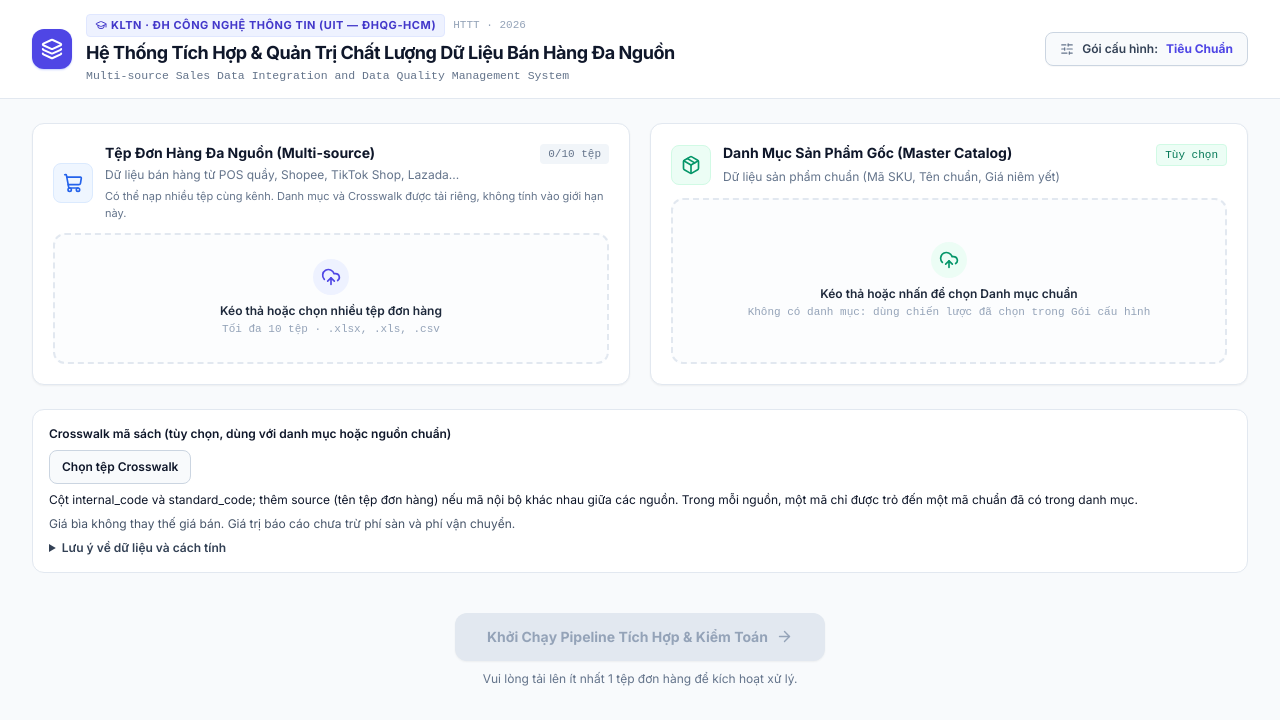
Test: Configuration UI interactions › shows presets only inside the dialog; Cancel discards the draft, Apply commits it
The image size is (1280, 720).
Click the button "Gói cấu hình: Tiêu Chuẩn".
click(1147, 49)  # box [1045,32,1248,66]
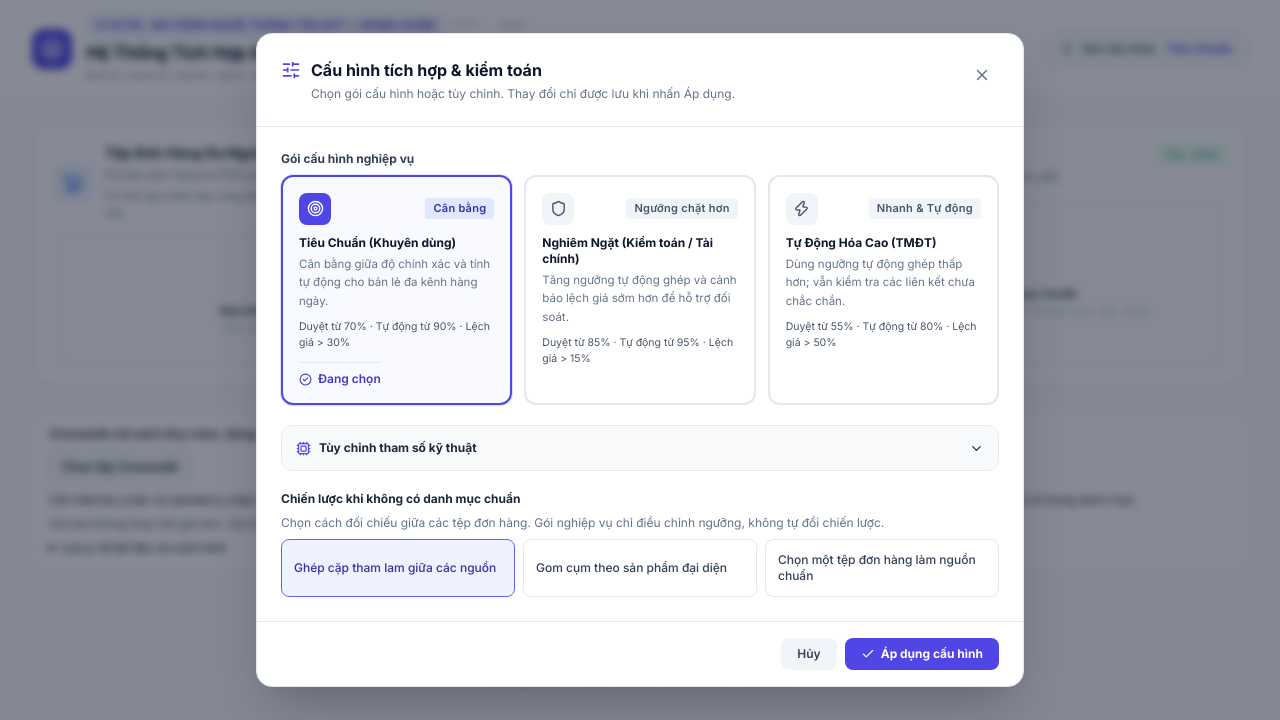
expect the button with aria-label "Nghiêm Ngặt (Kiểm toán / Tài chính)" is shown: met
Click the button with aria-label "Nghiêm Ngặt (Kiểm toán / Tài chính)".
click(640, 290)  # box [524,175,756,405]
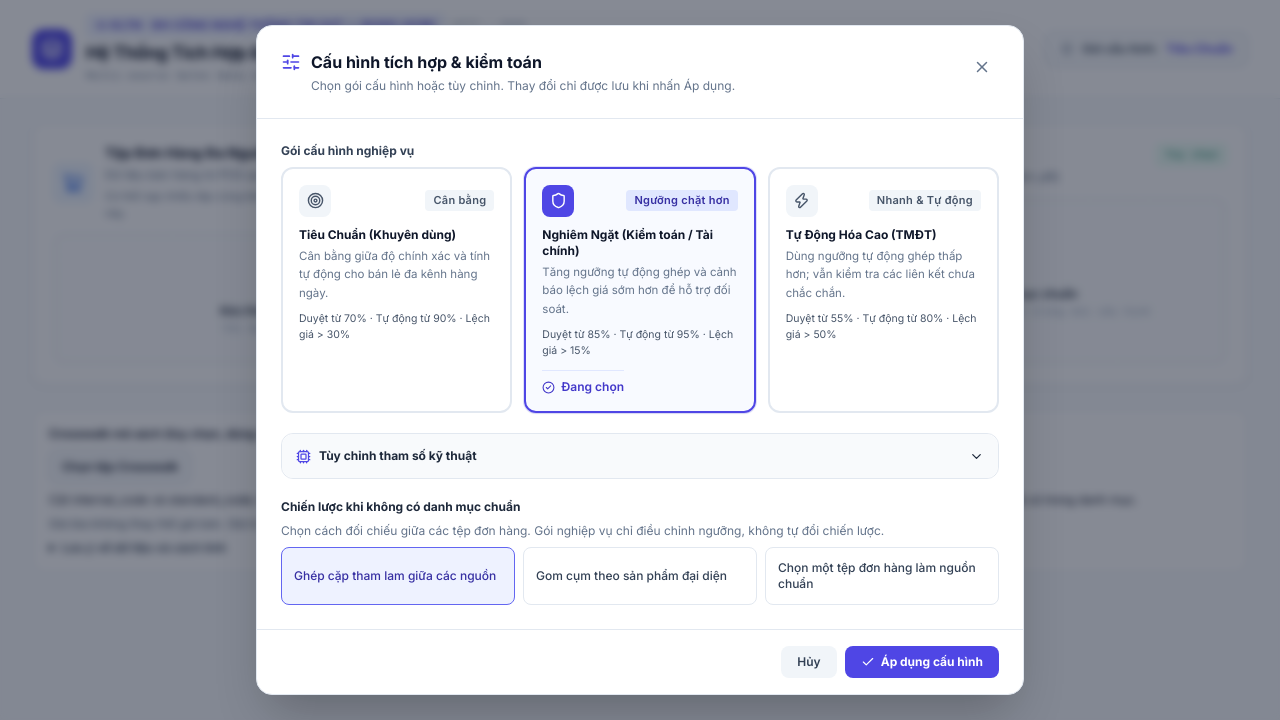
expect the button "Gói cấu hình: Tiêu Chuẩn" is shown: met, box [1045,32,1248,66]
expect the button "Hủy" is shown: met
Click the button "Hủy".
click(809, 662)  # box [781,646,837,678]
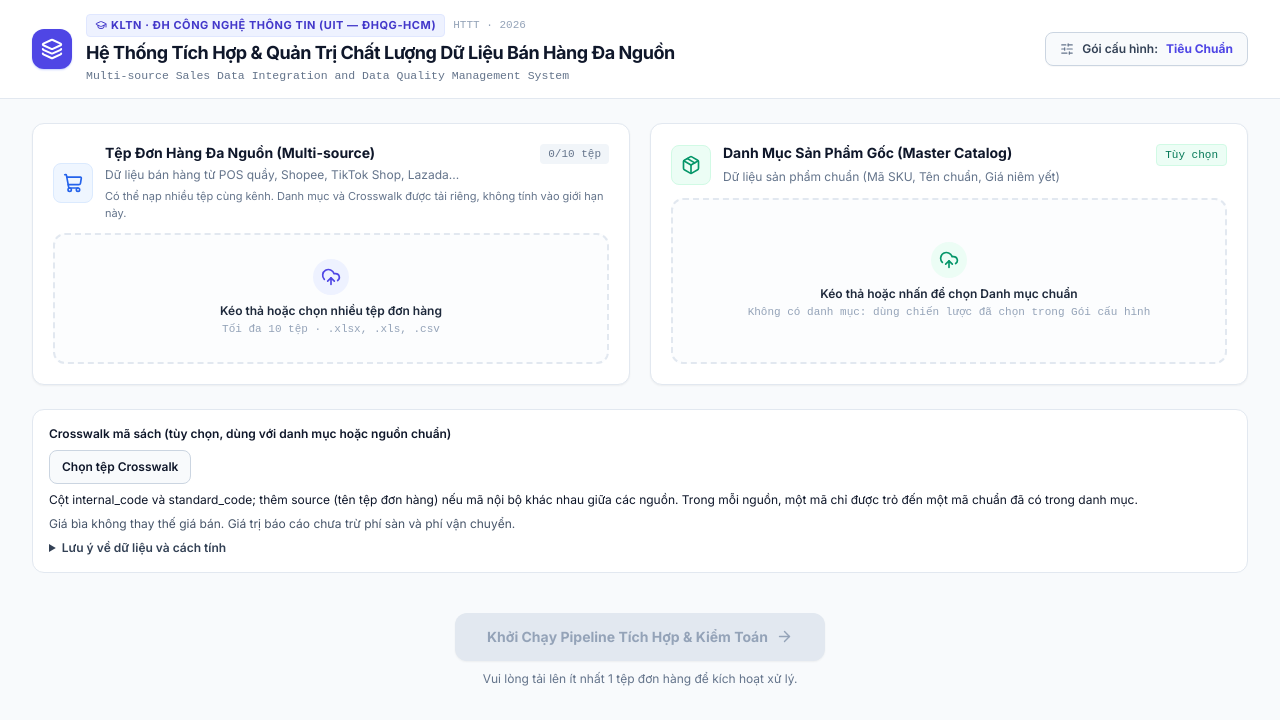
expect the dialog is gone: met
Click the button "Gói cấu hình: Tiêu Chuẩn".
click(1147, 49)  # box [1045,32,1248,66]
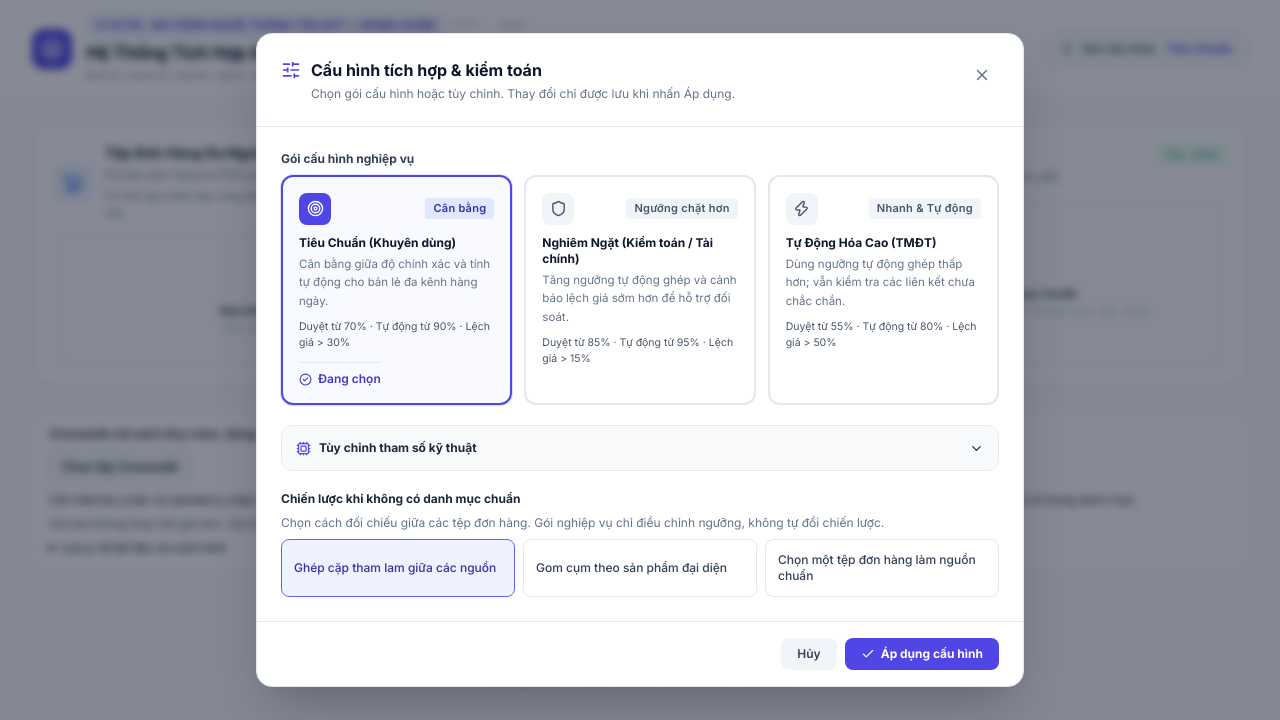
Click the button with aria-label "Nghiêm Ngặt (Kiểm toán / Tài chính)".
click(640, 290)  # box [524,175,756,405]
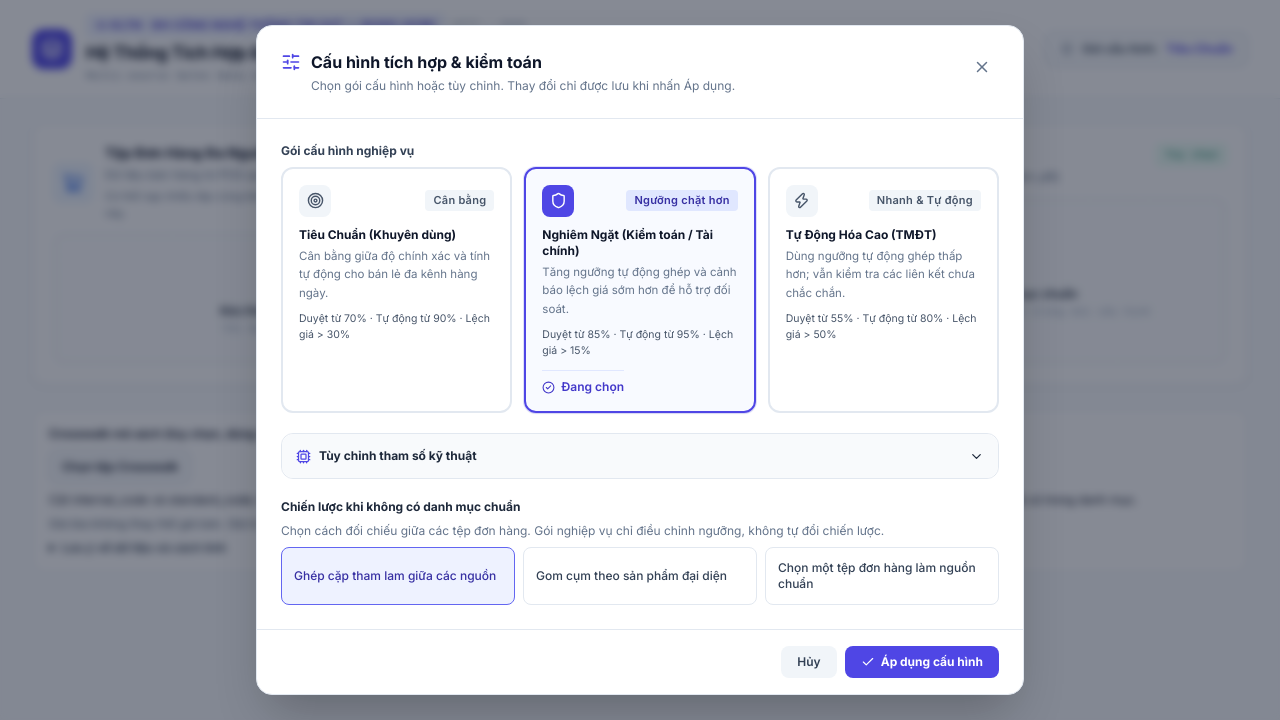
expect the button "Áp dụng cấu hình" is shown: met
Click the button "Áp dụng cấu hình".
click(922, 662)  # box [845,646,999,678]
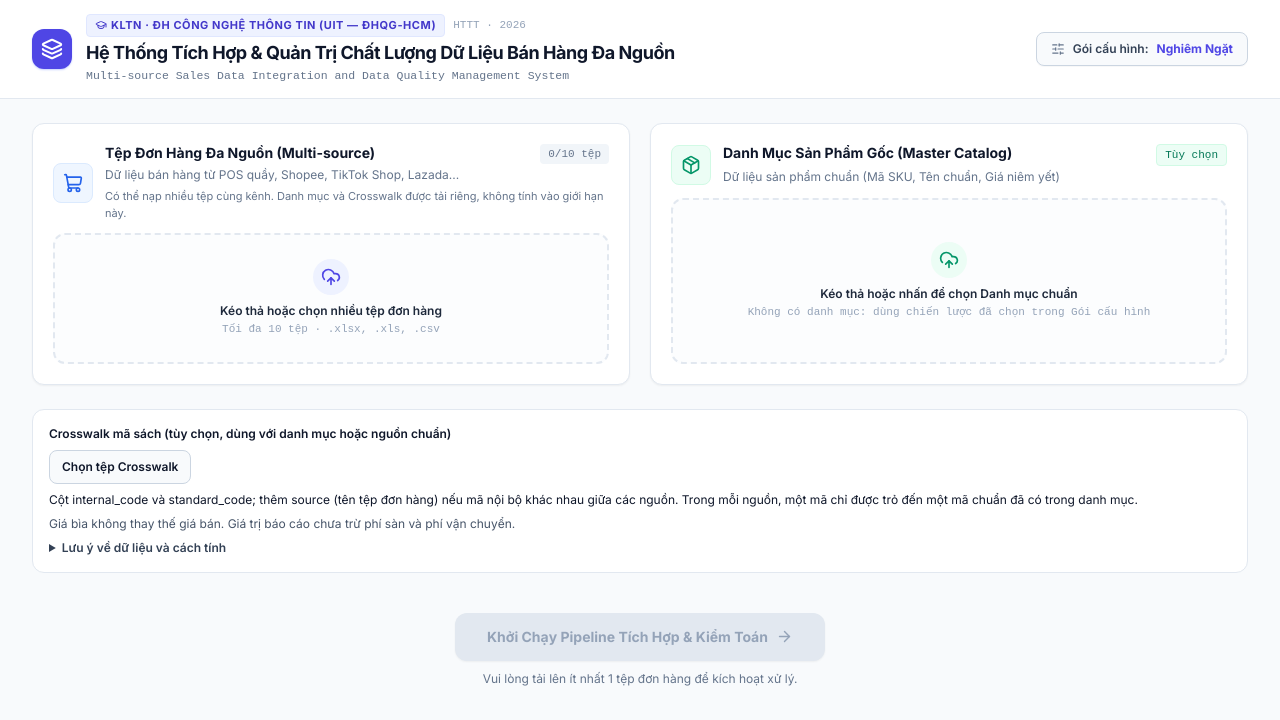
expect the button "Gói cấu hình: Nghiêm Ngặt" is shown: met, box [1036,32,1248,66]
